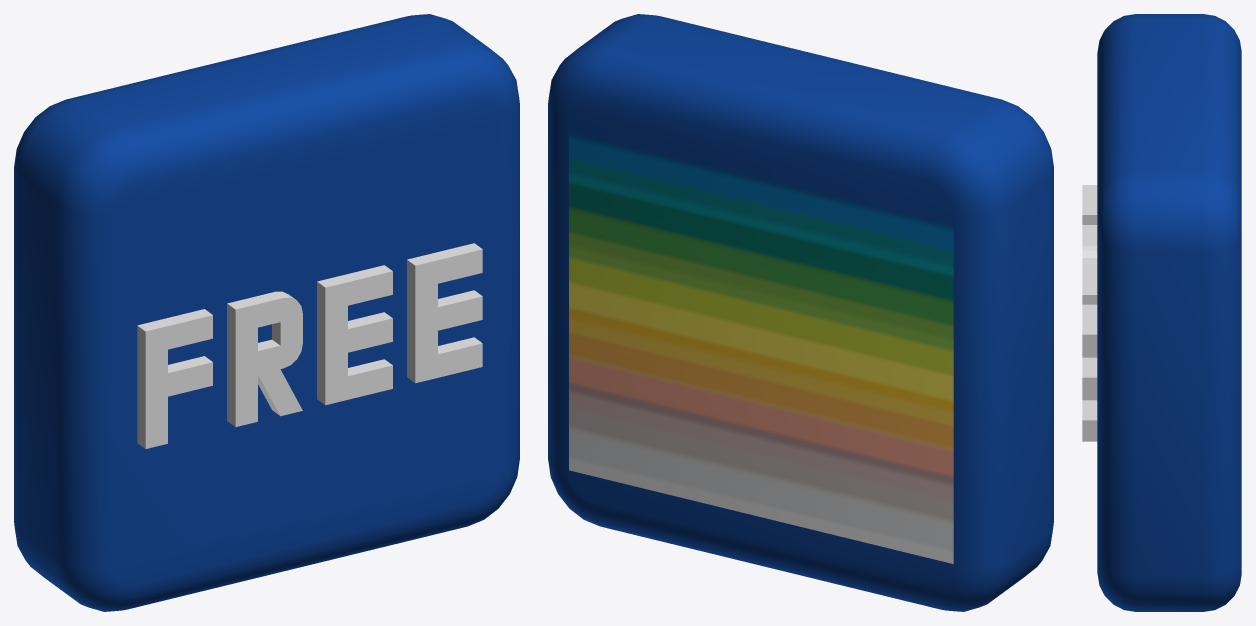
The model's file is free_button.glb.
3 views of the same model, side by side, from view 1: azimuth 30°, elevation 25°; view 2: azimuth 150°, elevation 25°; view 3: azimuth 270°, elevation 25° (orthographic). The views are drawn at different scales.
Parts seen in each view (by area): view 1: Cube.6621, Cube.6620; view 2: Cube.6621; view 3: Cube.6621, Cube.6620.
Boxes of the visible parts, <box> form: Cube.6621: <box>14,14,519,611</box>; Cube.6620: <box>137,243,482,448</box>; Cube.6621: <box>548,14,1053,611</box>; Cube.6621: <box>1097,14,1241,611</box>; Cube.6620: <box>1082,185,1097,441</box>.
Size of the model in its own units: 2.2 by 2.2 by 0.73.
Materials: 1 (1 with a texture image).
